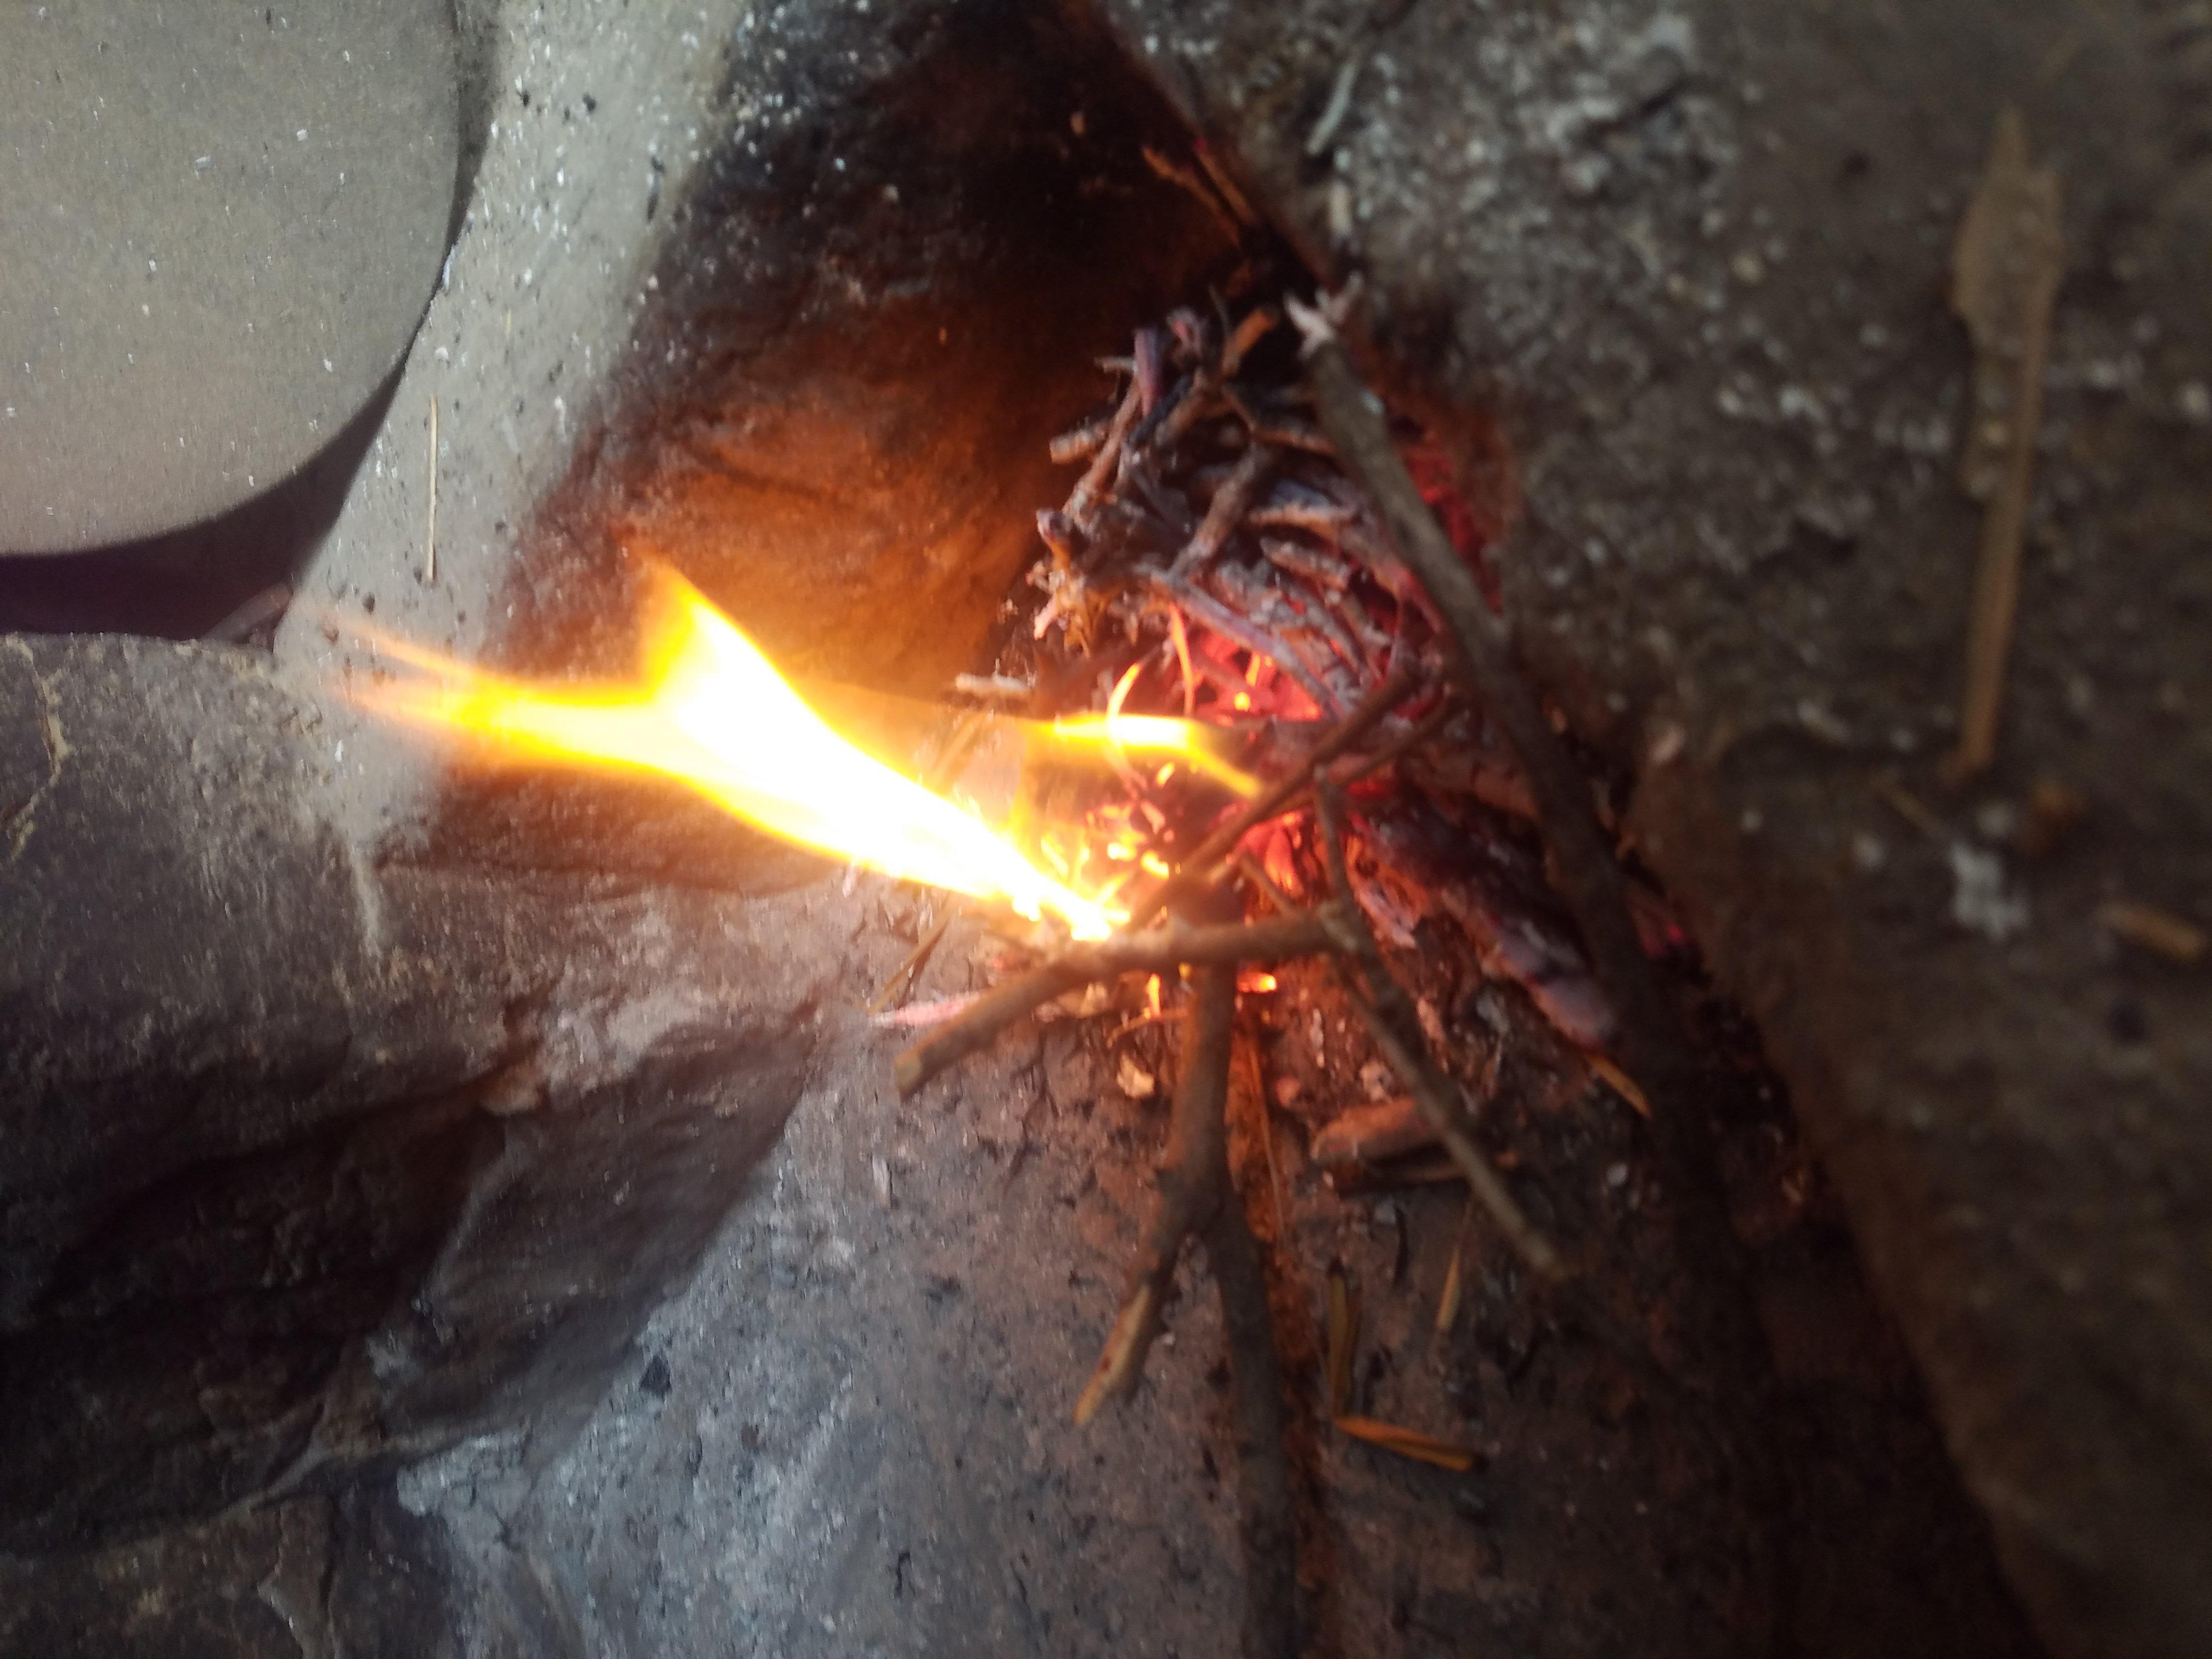fire: (935, 246, 1477, 951)
